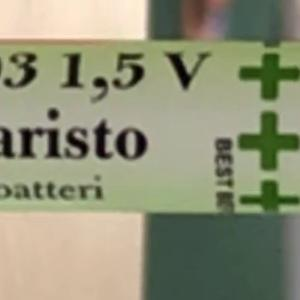keyword: (51, 42, 221, 99)
